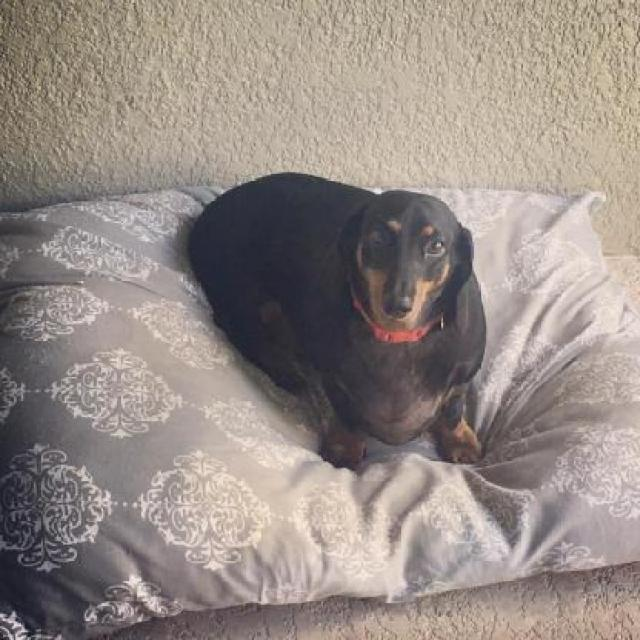Dog: (186, 166, 492, 472)
